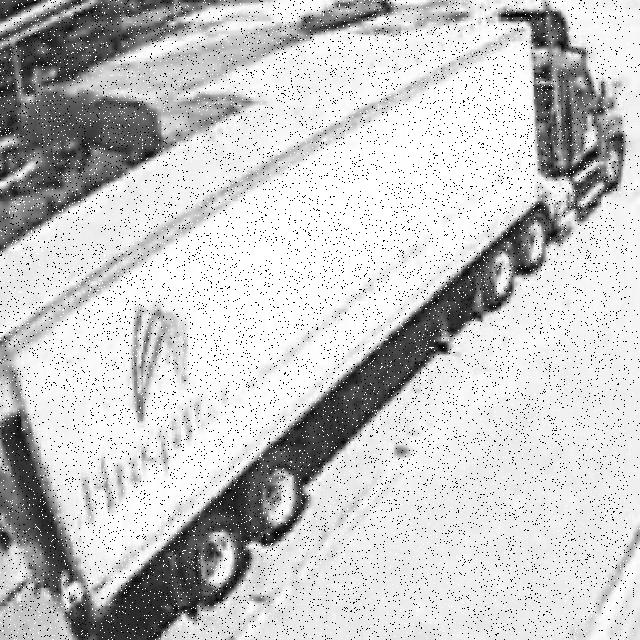Tractor Trailer: (0, 0, 627, 640)
